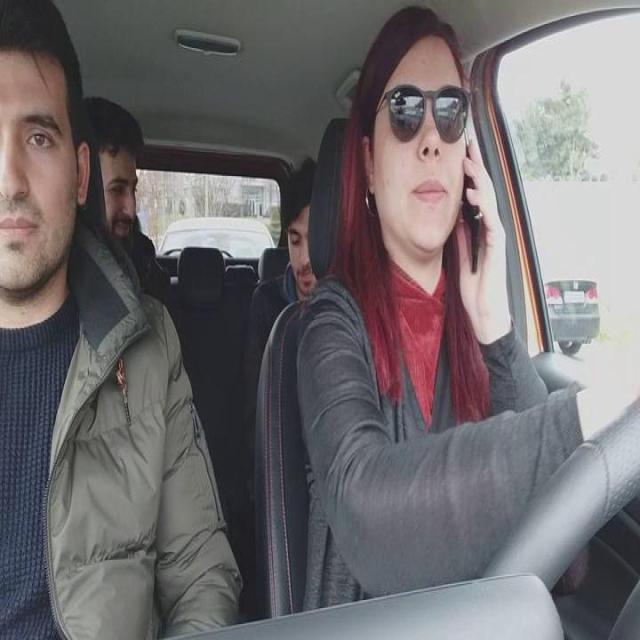phone: (460, 172, 485, 277)
